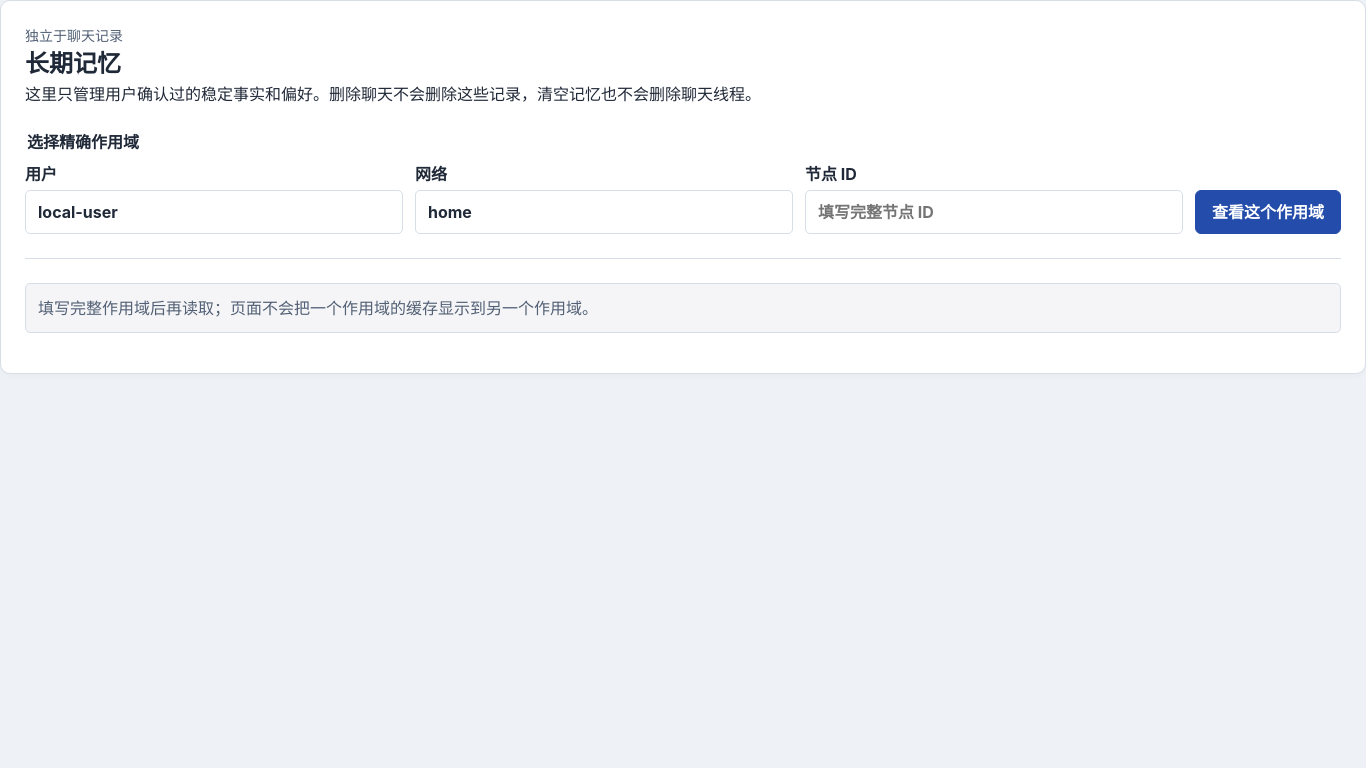
Scenario: MemoriesPage › 读取失败时给出恢复入口，恢复后显示空状态
The width and height of the screenshot is (1366, 768).
In the field labelled "节点 ID": {"x": 994, "y": 212} 805,190 -> 1183,234, type "node_6fcf3484754b46c6bc3ef4571e76495e"
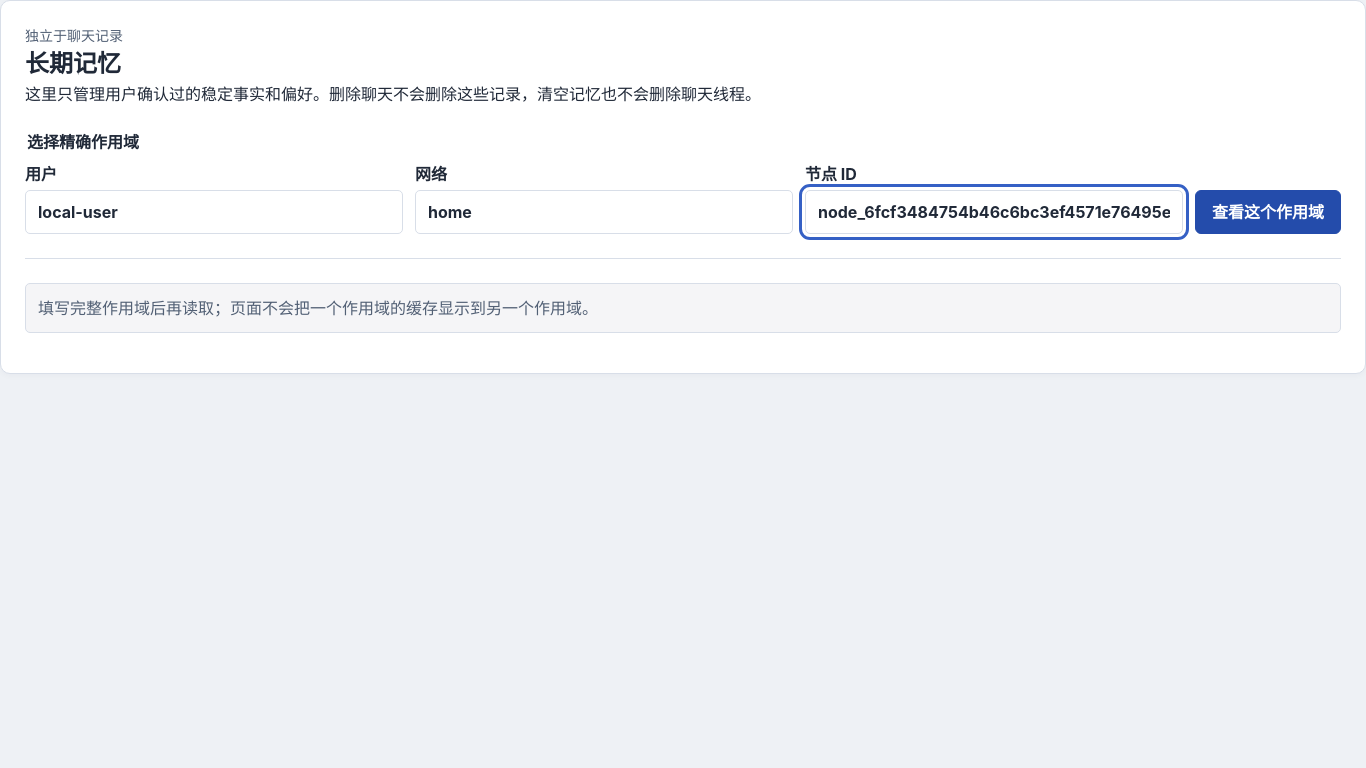
Click the button "查看这个作用域": {"x": 1268, "y": 212} 1195,190 -> 1341,234
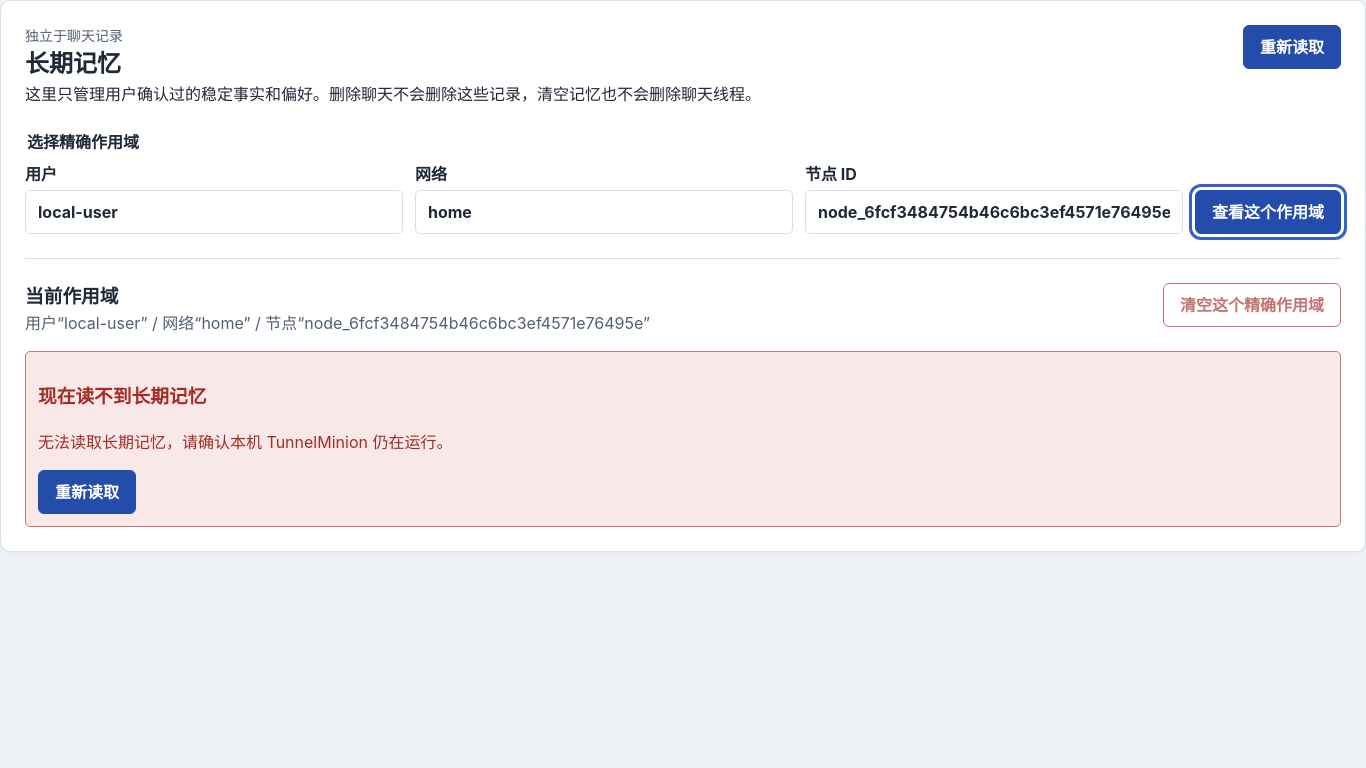
Now the heading "现在读不到长期记忆" is shown, box 38,385 -> 206,408
Now the message "现在读不到长期记忆" is shown, box 25,351 -> 1341,527
Click the button "重新读取" below "无法读取长期记忆，请确认本机 TunnelMinion 仍在运行。": {"x": 87, "y": 492} 38,470 -> 136,514
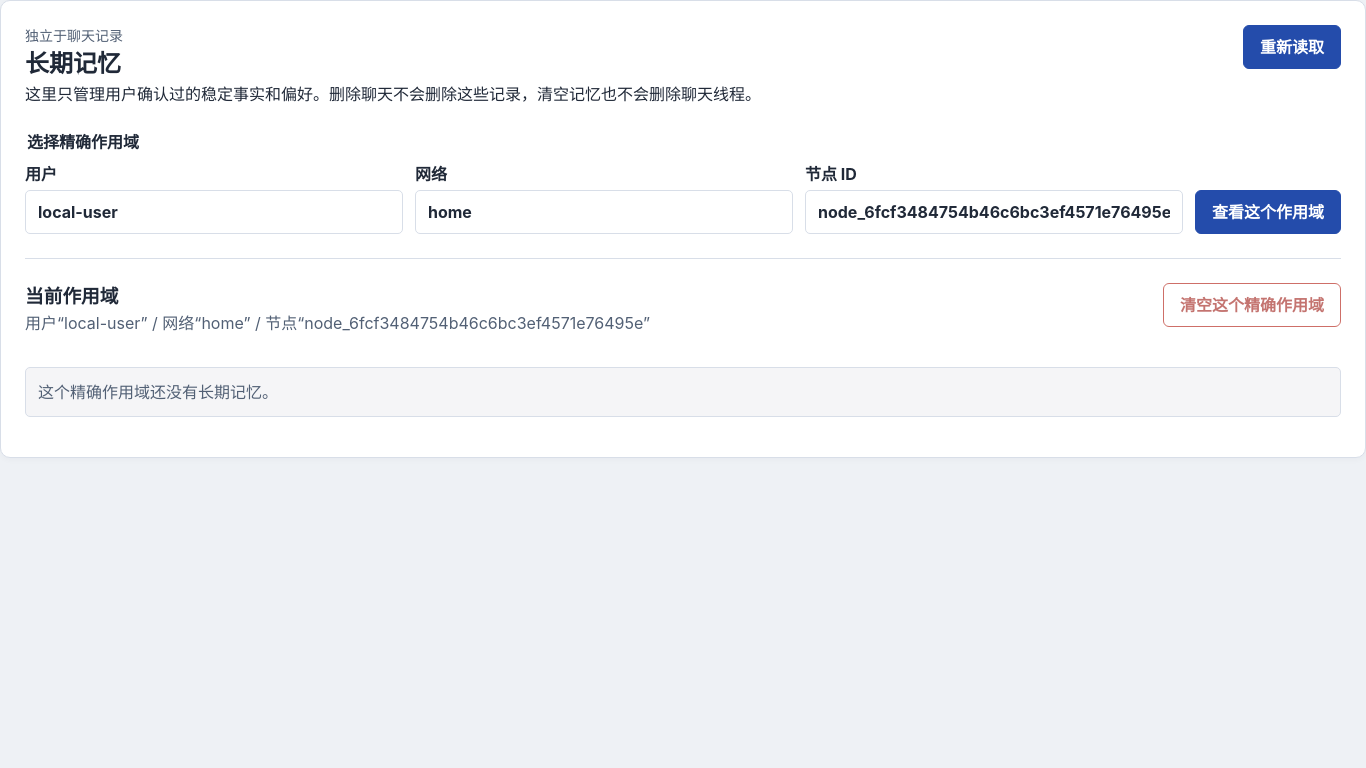
Now the text "这个精确作用域还没有长期记忆。" is shown, box 25,367 -> 1341,417
